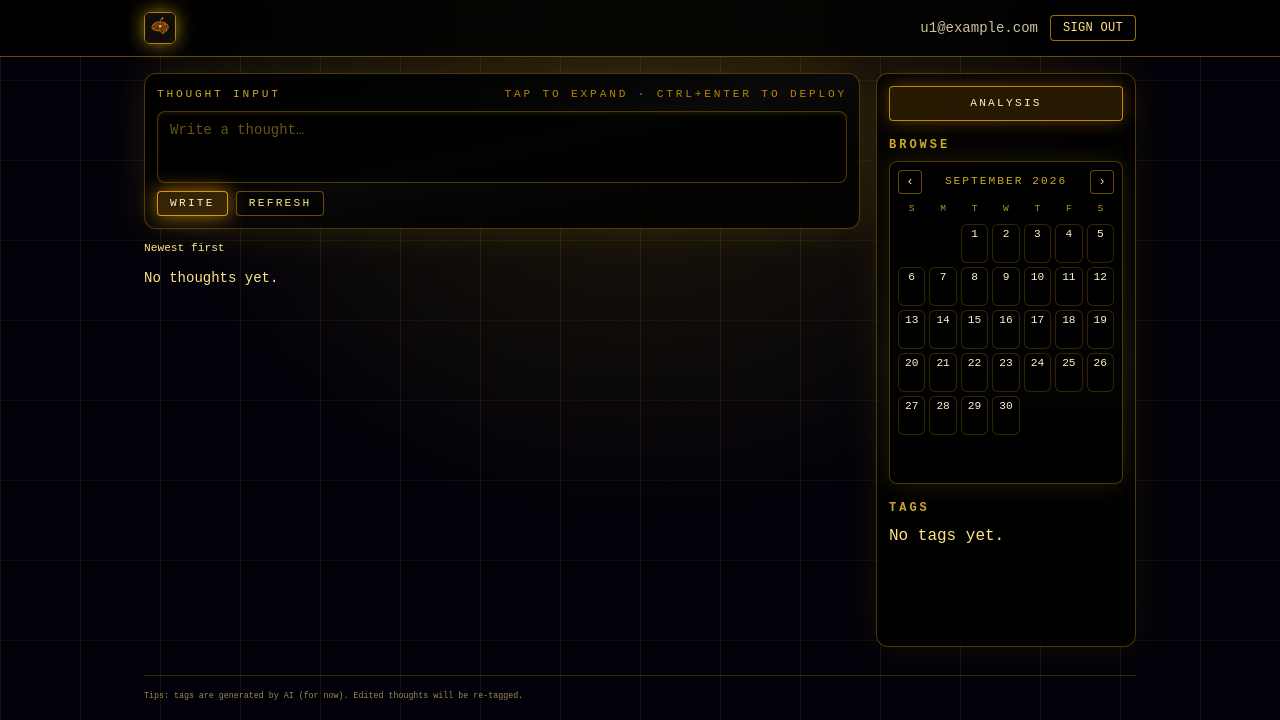
it: App composer › navigates to therapy analysis page from the sidebar button
Click the button with aria-label "Open therapy analysis". click: coordinates (1006, 103)
box: [889,86,1123,121]
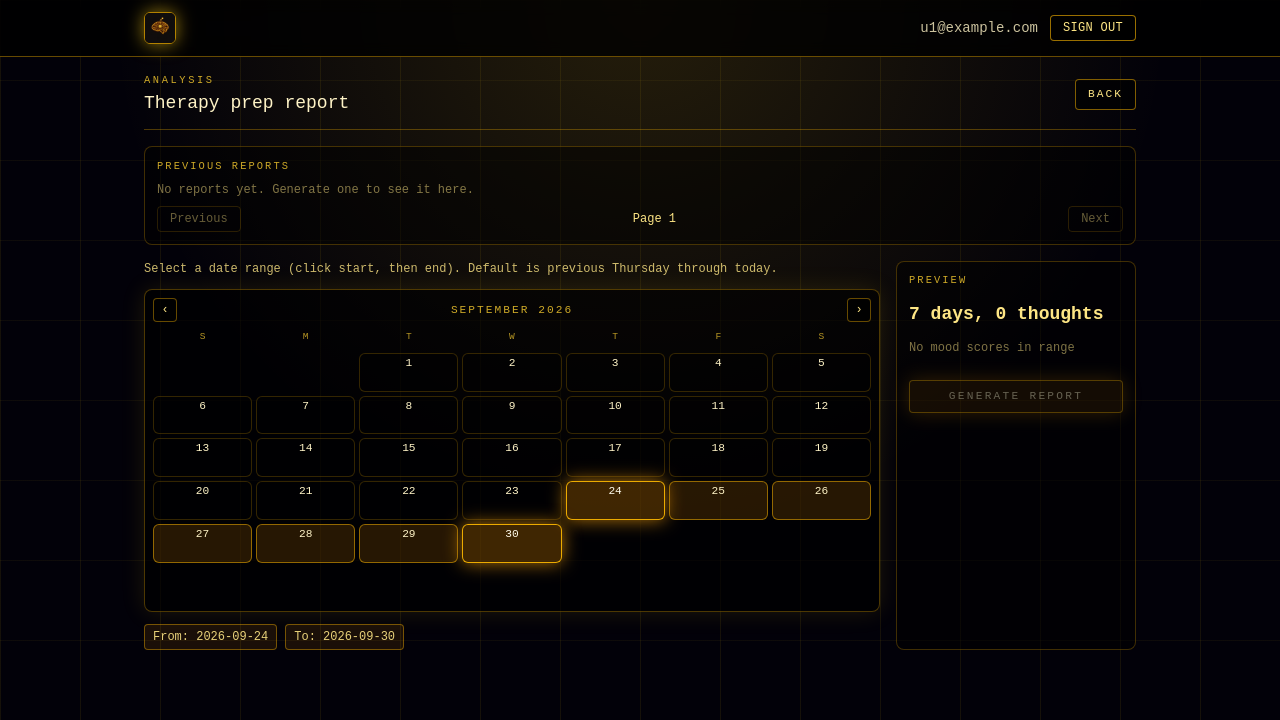
expect the element named "Therapy analysis" is shown: met
expect the button "Generate report" is shown: met, box [909,380,1123,413]
expect the text "Previous reports" is shown: met, box [157,160,290,172]
